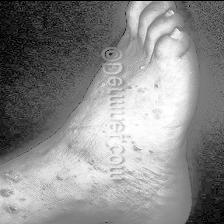Non-Cancerous Skin Condition: (125, 62, 162, 178), (0, 170, 47, 224), (78, 176, 108, 216), (63, 129, 81, 153)
